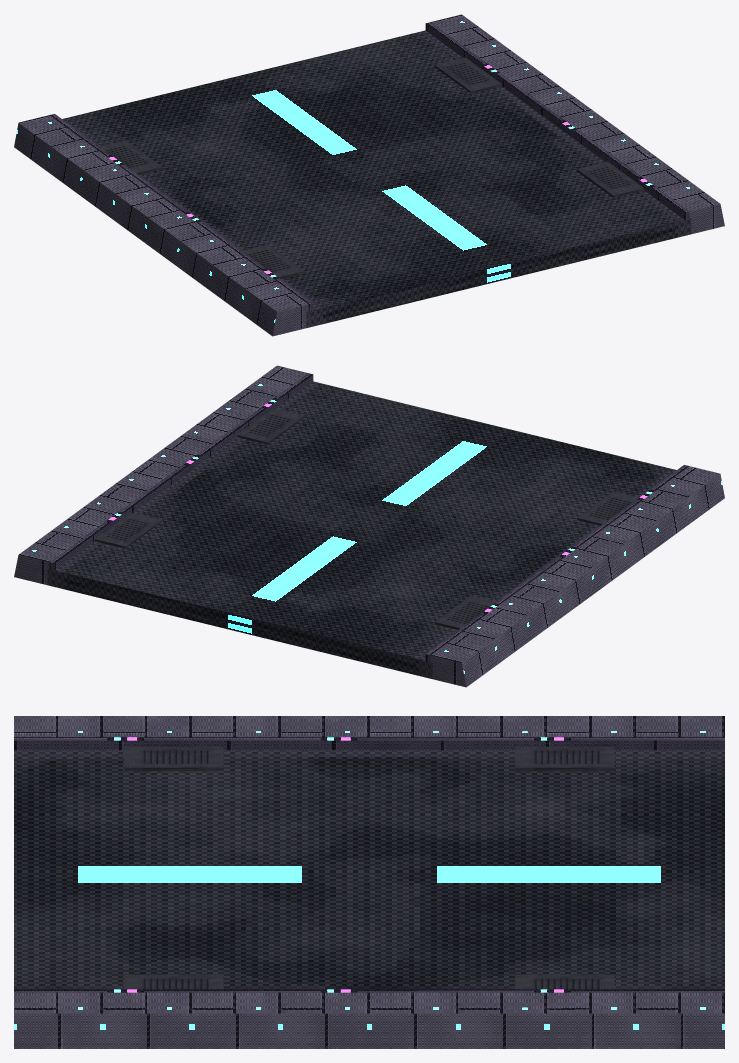
File: road_segment.glb
The picture shows the model from 3 angles, top to bottom: view 1: azimuth 30°, elevation 25°; view 2: azimuth 150°, elevation 25°; view 3: azimuth 270°, elevation 25°; orthographic projection. The views are drawn at different scales.
Parts seen in each view (by area): view 1: road_segment__city_road_basalt, road_segment__city_sidewalk_hex, road_segment__city_wall_neon, road_segment__city_roof_mech; view 2: road_segment__city_road_basalt, road_segment__city_sidewalk_hex, road_segment__city_wall_neon, road_segment__city_roof_mech; view 3: road_segment__city_road_basalt, road_segment__city_sidewalk_hex, road_segment__city_wall_neon, road_segment__city_roof_mech.
Part boxes in pixels (<box>): road_segment__city_road_basalt: <box>62,30,691,327</box>; road_segment__city_sidewalk_hex: <box>14,14,724,336</box>; road_segment__city_wall_neon: <box>49,22,689,310</box>; road_segment__city_roof_mech: <box>100,57,643,278</box>; road_segment__city_road_basalt: <box>47,381,676,678</box>; road_segment__city_sidewalk_hex: <box>14,365,724,687</box>; road_segment__city_wall_neon: <box>49,373,688,661</box>; road_segment__city_roof_mech: <box>95,408,638,629</box>; road_segment__city_road_basalt: <box>14,750,724,989</box>; road_segment__city_sidewalk_hex: <box>14,716,724,1048</box>; road_segment__city_wall_neon: <box>14,736,724,992</box>; road_segment__city_roof_mech: <box>124,747,614,989</box>.
Bounding box in the file's own units: 4.04 × 0.2 × 4.
4 materials, 4 textured.
